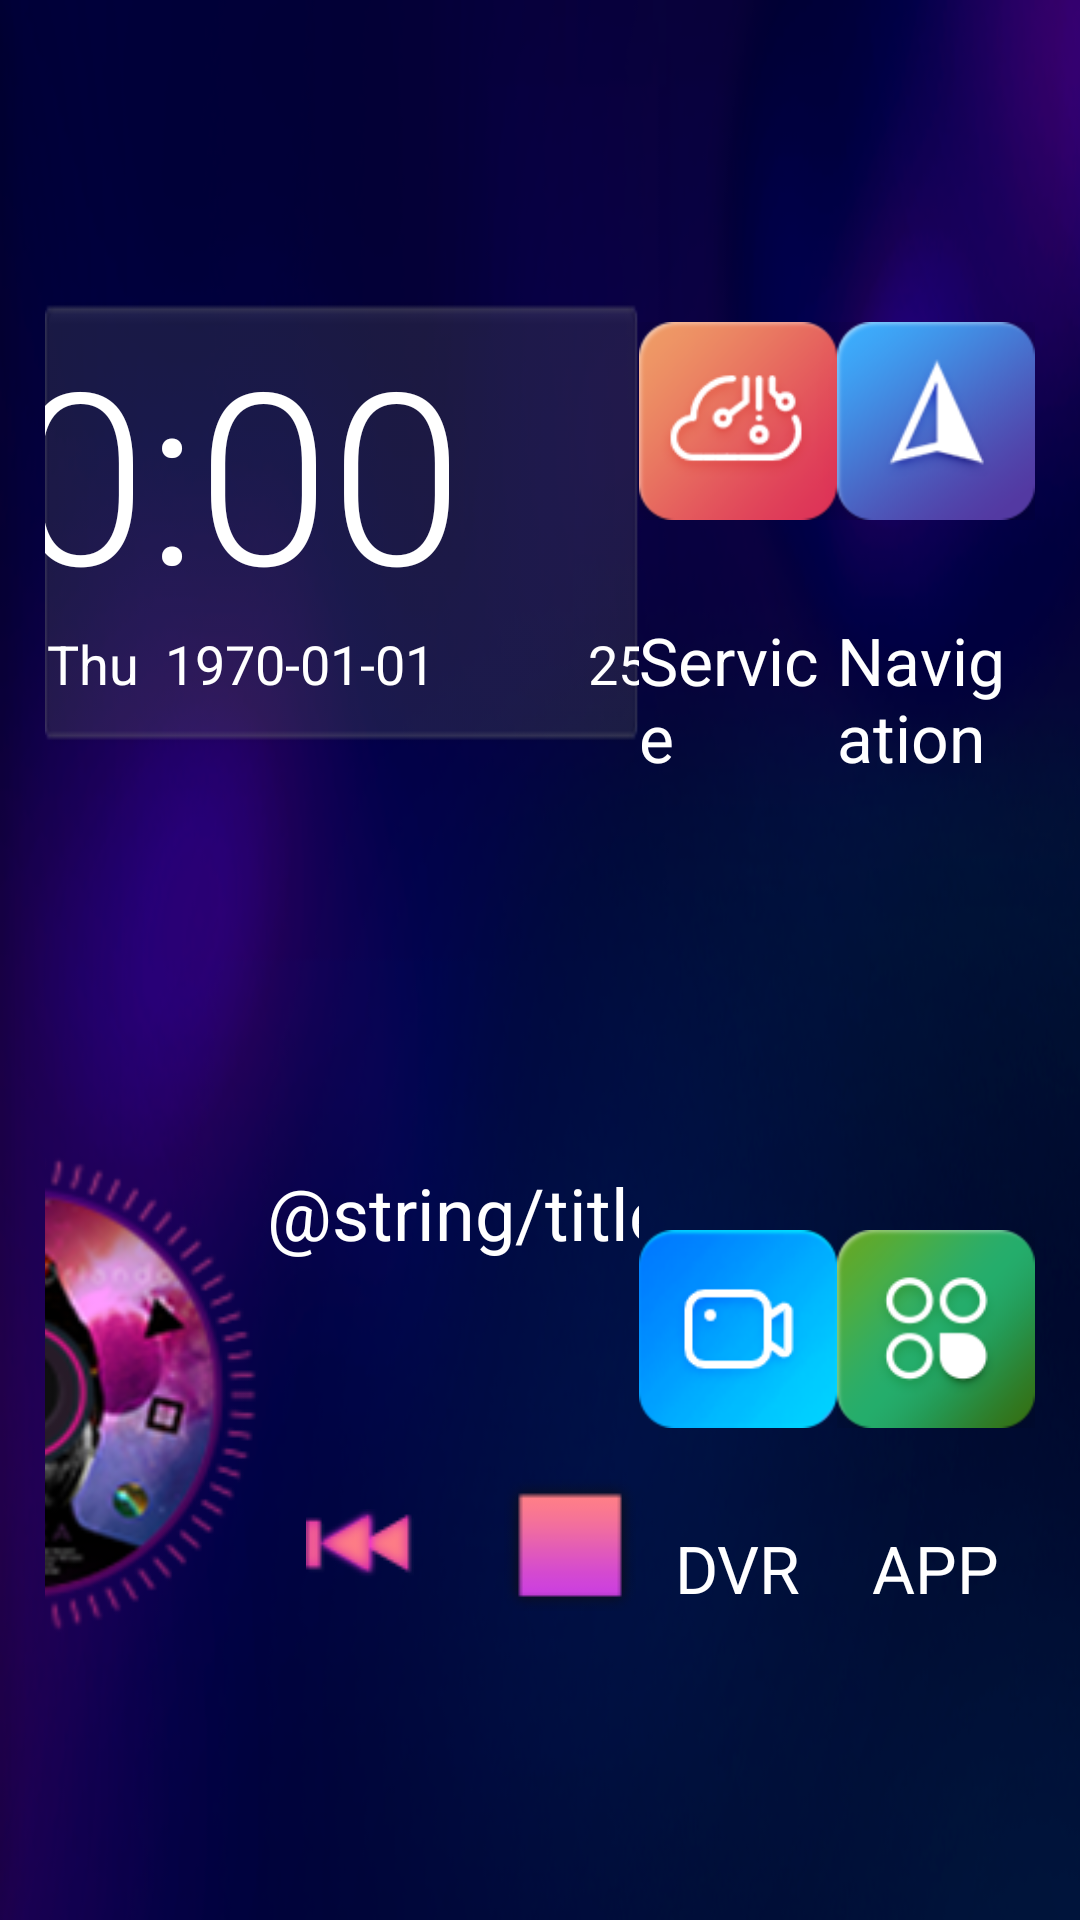

Point at icon controls on the screen. Image size 1080 × 1920, points as (x=x, y=y).
home app: (x=936, y=1329)
home music pre: (x=359, y=1543)
home record: (x=738, y=1329)
